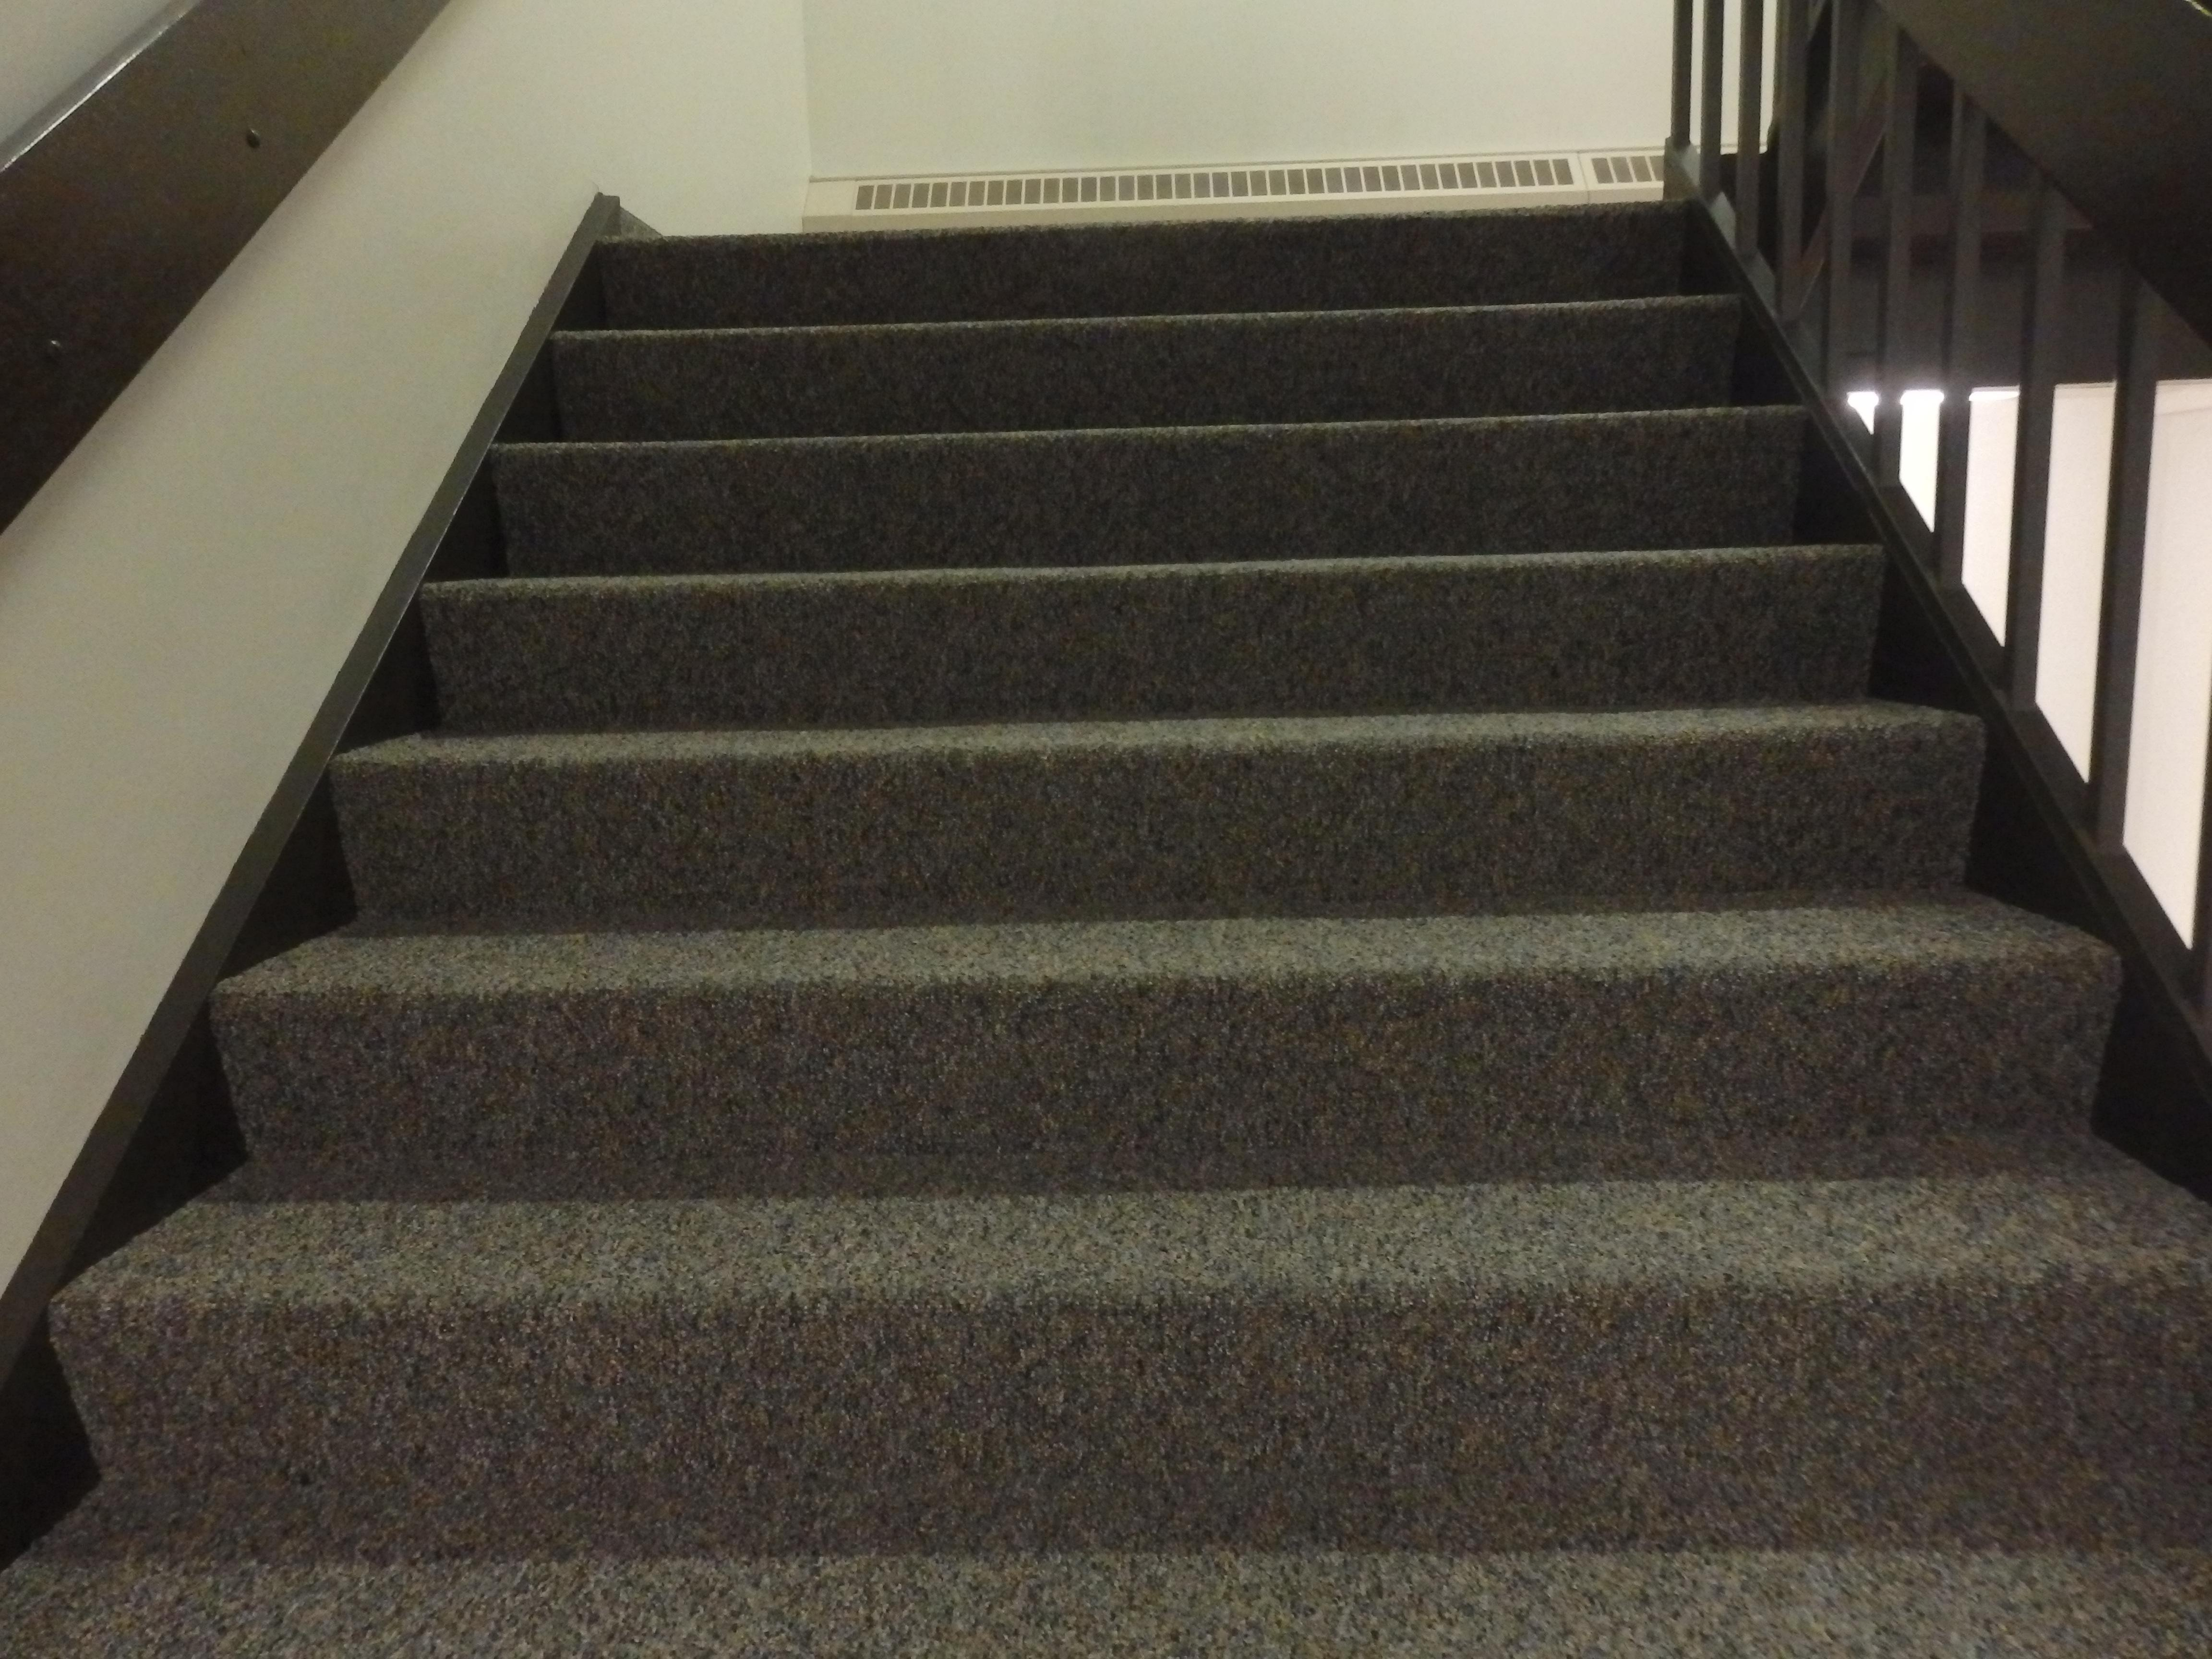stairs_up: (206, 221, 2087, 1493)
